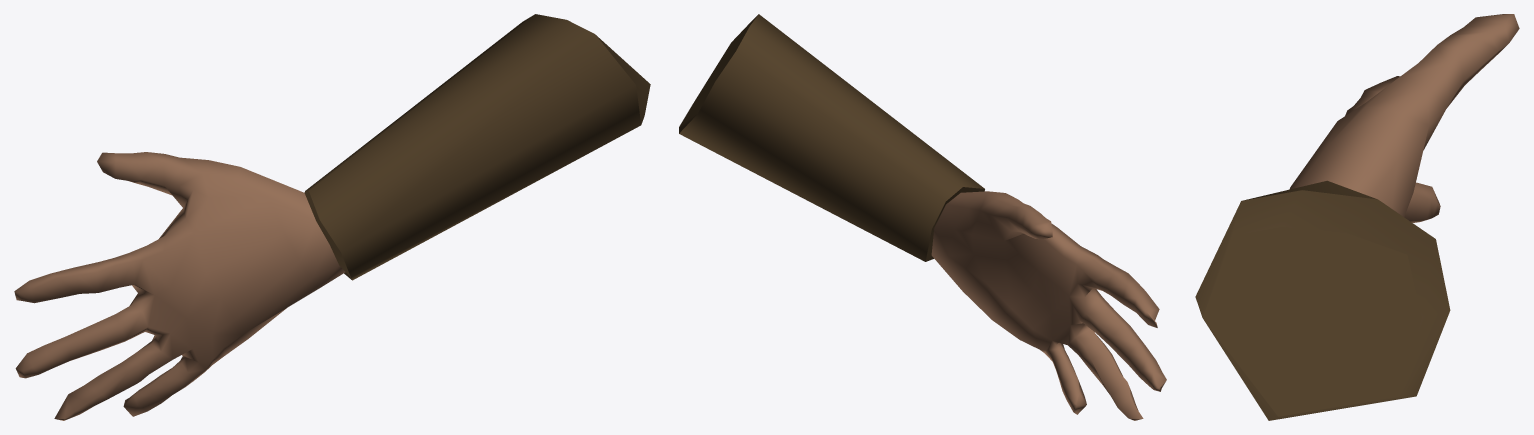
Rendered from BH_LeftHand.fbx.
3 views of the same model, side by side, from view 1: azimuth 30°, elevation 25°; view 2: azimuth 150°, elevation 25°; view 3: azimuth 270°, elevation 25° (orthographic). The views are drawn at different scales.
Parts seen in each view (by area): view 1: BH_LHand; view 2: BH_LHand; view 3: BH_LHand.
Boxes of the visible parts, x1,y1,x2,y2 form: BH_LHand: (14, 14, 650, 420); BH_LHand: (679, 14, 1166, 420); BH_LHand: (1195, 14, 1519, 420).
Bounding box in the file's own units: 32.33 × 17.13 × 9.81.
